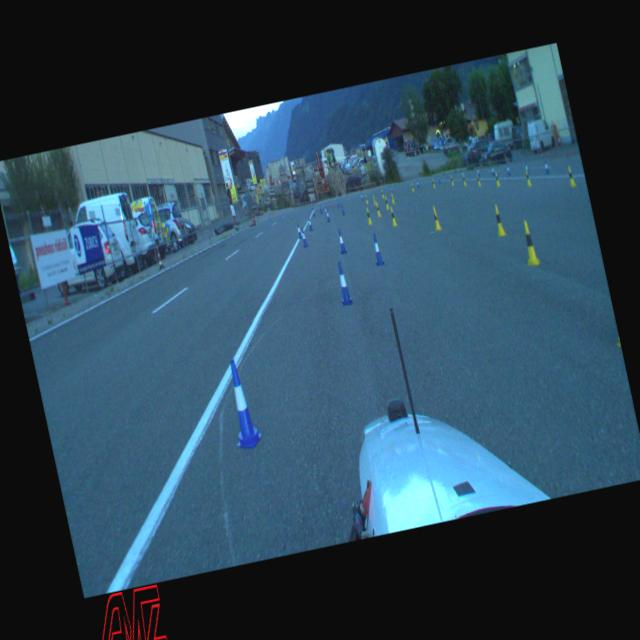blue_cone: (218, 356, 264, 450), (332, 260, 352, 304), (370, 232, 384, 266), (336, 228, 346, 254), (300, 226, 308, 246), (296, 222, 302, 238), (306, 216, 312, 230), (324, 210, 330, 222), (323, 206, 328, 216), (311, 206, 315, 217), (415, 179, 419, 188), (359, 192, 363, 200)
yellow_cone: (518, 218, 540, 266), (492, 203, 506, 236), (430, 204, 442, 230), (566, 164, 576, 187), (388, 206, 398, 227), (524, 168, 532, 186), (364, 207, 372, 224), (494, 170, 501, 187), (374, 200, 381, 217), (383, 195, 389, 209), (461, 172, 467, 185), (476, 173, 482, 186), (389, 191, 395, 204), (364, 192, 368, 204), (450, 174, 454, 186), (372, 193, 376, 204), (380, 188, 384, 198), (432, 178, 436, 188), (410, 182, 414, 191)
